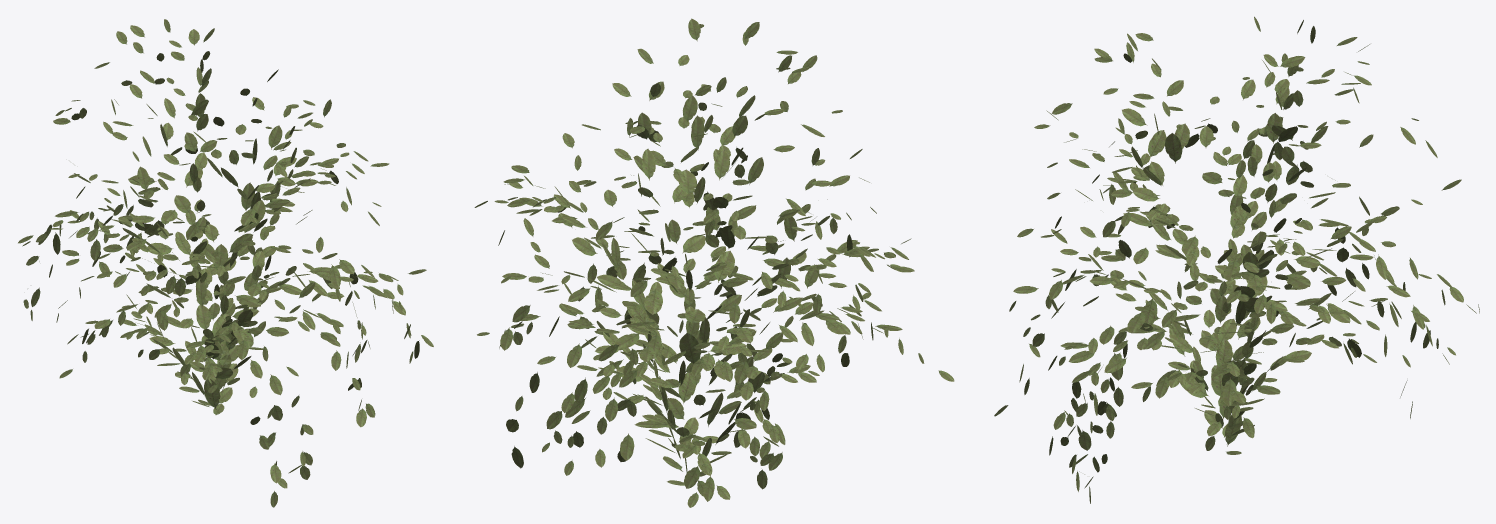
The model's file is Tree_Leaves02.fbx.
The picture shows the model from 3 angles, left to right: view 1: azimuth 30°, elevation 25°; view 2: azimuth 150°, elevation 25°; view 3: azimuth 270°, elevation 25°; orthographic projection. The views are drawn at different scales.
Visible parts, largest first — view 1: Tree_Leaves02; view 2: Tree_Leaves02; view 3: Tree_Leaves02.
Part boxes in pixels (<box>): Tree_Leaves02: <box>18,19,433,507</box>; Tree_Leaves02: <box>474,18,954,507</box>; Tree_Leaves02: <box>994,16,1479,503</box>.
Size of the model in its own units: 470 by 503 by 449.
